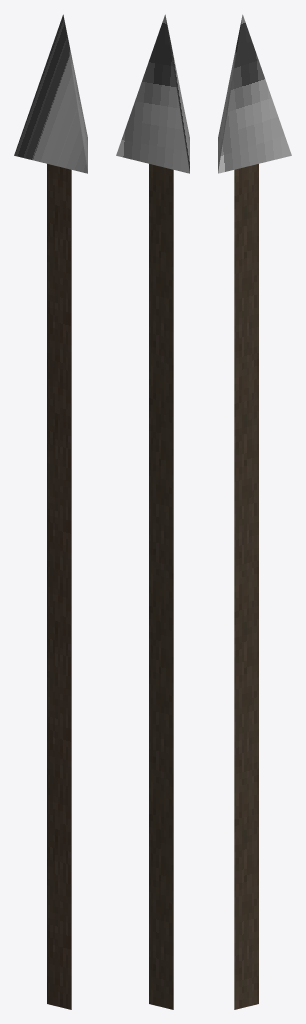
File: Spear.glb
3 renders of one model, left to right at view 1: azimuth 90°, elevation 25°; view 2: azimuth 210°, elevation 25°; view 3: azimuth 270°, elevation 25°, orthographic.
Visible parts, largest first — view 1: Spear; view 2: Spear; view 3: Spear.
Part boxes in pixels (x1,y1,x2,y2): Spear: (14,14,87,1009); Spear: (116,14,189,1009); Spear: (218,14,291,1009).
Bounding box in the file's own units: 0.2173 × 2.78 × 0.1882.
Materials: 2 (2 with a texture image).
